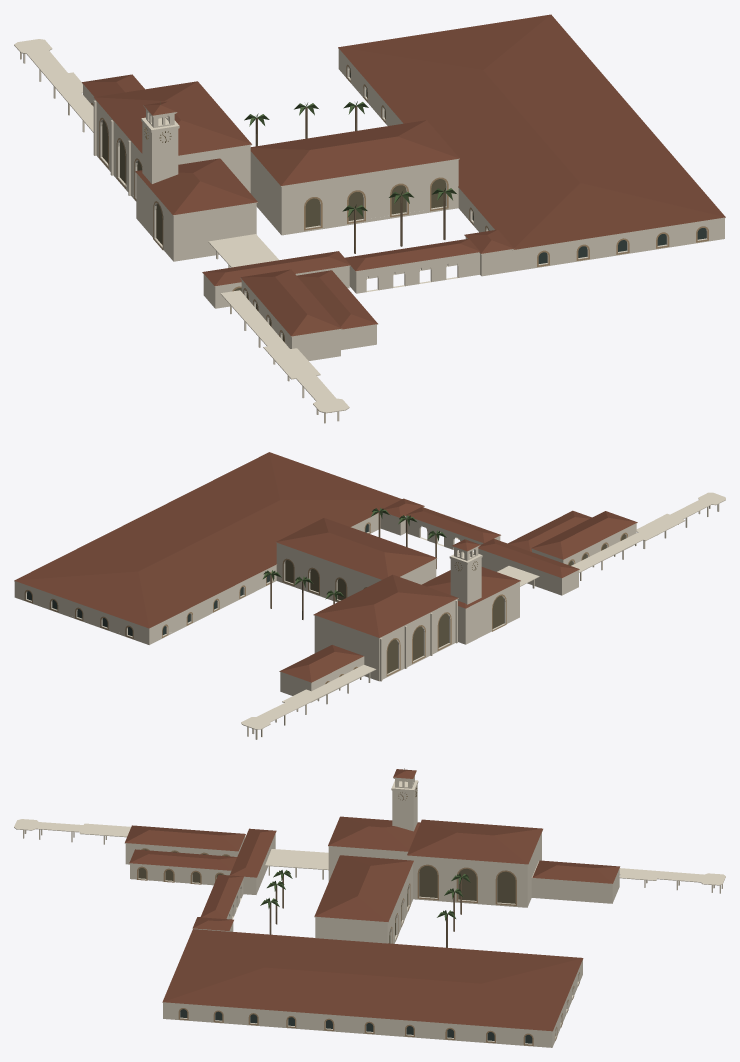
The model's file is los-angeles-union-station-far.glb.
3 views of the same model, one above another, from view 1: azimuth 30°, elevation 25°; view 2: azimuth 150°, elevation 25°; view 3: azimuth 270°, elevation 25° (orthographic). The views are drawn at different scales.
Visible parts, largest first — view 1: los-angeles-union-station-0-roof, los-angeles-union-station-0-stucco, los-angeles-union-station-0-glow, los-angeles-union-station-0-trim, los-angeles-union-station-0-foliage; view 2: los-angeles-union-station-0-roof, los-angeles-union-station-0-stucco, los-angeles-union-station-0-glow, los-angeles-union-station-0-trim, los-angeles-union-station-0-foliage; view 3: los-angeles-union-station-0-roof, los-angeles-union-station-0-stucco, los-angeles-union-station-0-glow, los-angeles-union-station-0-trim, los-angeles-union-station-0-glass, los-angeles-union-station-0-foliage.
Boxes of the visible parts, bbox=[...] form: los-angeles-union-station-0-roof: bbox=[82, 14, 725, 336]; los-angeles-union-station-0-stucco: bbox=[14, 39, 725, 423]; los-angeles-union-station-0-glow: bbox=[102, 120, 445, 341]; los-angeles-union-station-0-trim: bbox=[91, 64, 708, 342]; los-angeles-union-station-0-foliage: bbox=[244, 101, 456, 217]; los-angeles-union-station-0-roof: bbox=[14, 452, 637, 682]; los-angeles-union-station-0-stucco: bbox=[14, 492, 725, 739]; los-angeles-union-station-0-glow: bbox=[285, 534, 625, 683]; los-angeles-union-station-0-trim: bbox=[24, 522, 627, 684]; los-angeles-union-station-0-foliage: bbox=[262, 508, 446, 600]; los-angeles-union-station-0-roof: bbox=[125, 769, 619, 1031]; los-angeles-union-station-0-stucco: bbox=[14, 772, 725, 1047]; los-angeles-union-station-0-glow: bbox=[138, 849, 515, 943]; los-angeles-union-station-0-trim: bbox=[137, 848, 579, 1045]; los-angeles-union-station-0-glass: bbox=[180, 1009, 532, 1043]; los-angeles-union-station-0-foliage: bbox=[260, 870, 470, 920].
Bounding box in the file's own units: 188 × 38.71 × 260.
